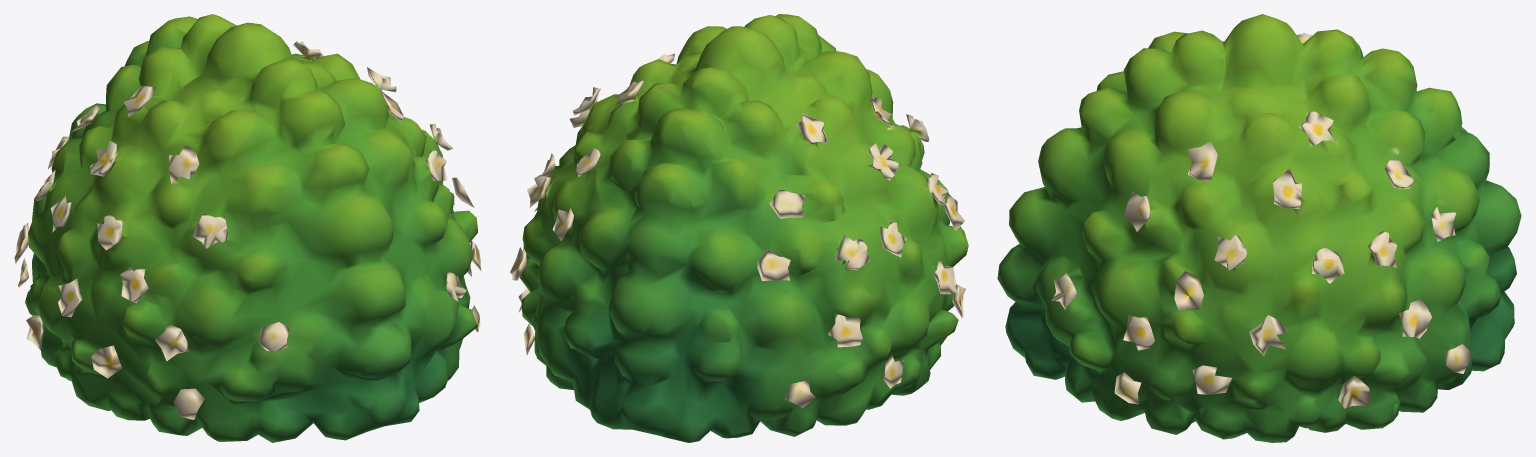
The model's file is bush.glb.
3 renders of one model, left to right at view 1: azimuth 30°, elevation 25°; view 2: azimuth 150°, elevation 25°; view 3: azimuth 270°, elevation 25°, orthographic. The views are drawn at different scales.
Parts seen in each view (by area): view 1: tripo_node_97381b96-11a1-4ae3-b44c-afba166954bd; view 2: tripo_node_97381b96-11a1-4ae3-b44c-afba166954bd; view 3: tripo_node_97381b96-11a1-4ae3-b44c-afba166954bd.
Part boxes in pixels (x1,y1,x2,y2): tripo_node_97381b96-11a1-4ae3-b44c-afba166954bd: [14, 14, 481, 442]; tripo_node_97381b96-11a1-4ae3-b44c-afba166954bd: [510, 14, 968, 442]; tripo_node_97381b96-11a1-4ae3-b44c-afba166954bd: [997, 14, 1521, 442].
Size of the model in its own units: 0.3843 by 0.3 by 0.4167.
1 material, 1 textured.
